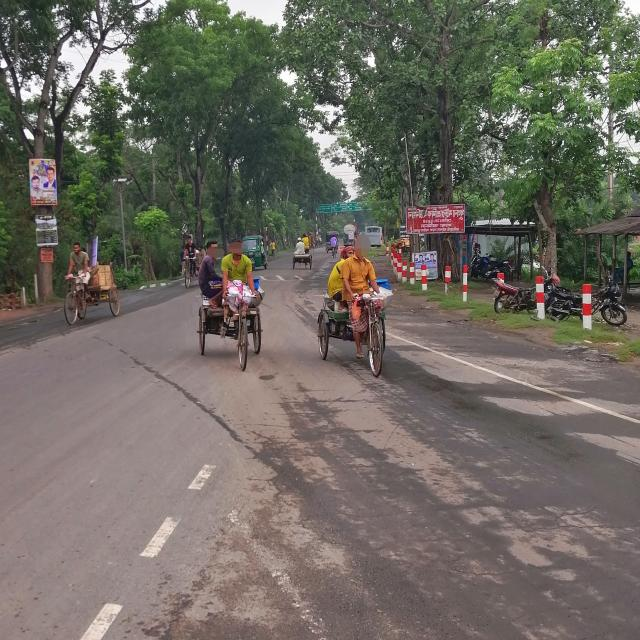Van: (191, 274, 273, 379), (310, 291, 400, 370), (58, 272, 133, 331)
